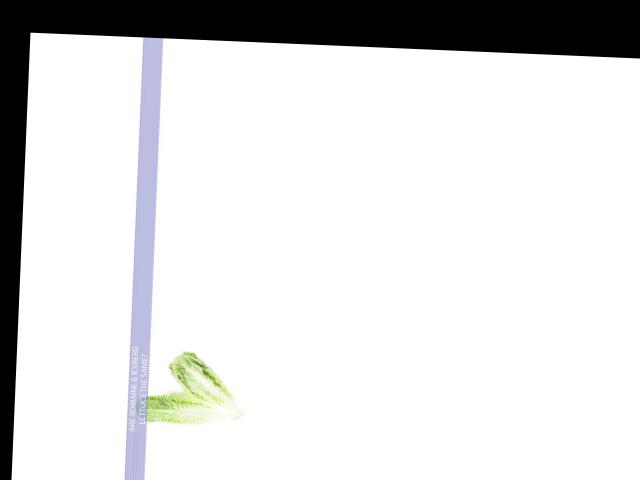lettuce: (160, 352, 246, 423)
